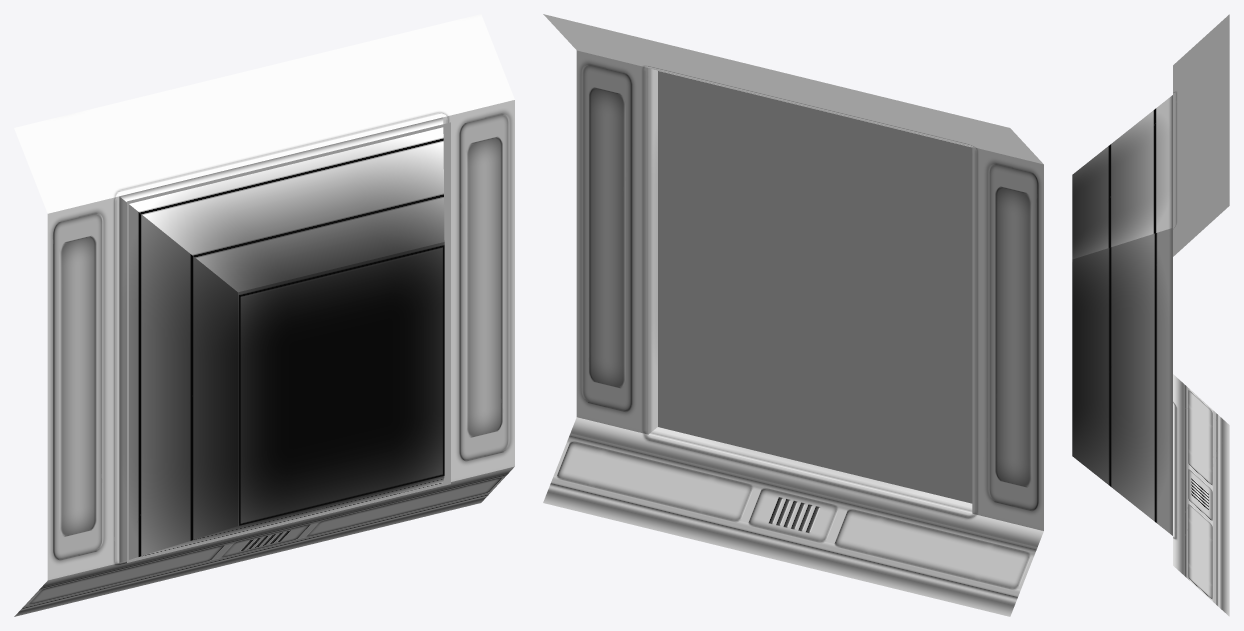
File: Sect_Wall_6_GrateA.FBX
3 renders of one model, left to right at view 1: azimuth 30°, elevation 25°; view 2: azimuth 150°, elevation 25°; view 3: azimuth 270°, elevation 25°, orthographic. The views are drawn at different scales.
Parts seen in each view (by area): view 1: Sect_Wall_C_002, Grate007; view 2: Sect_Wall_C_002, Grate007; view 3: Sect_Wall_C_002.
Boxes of the visible parts, x1,y1,x2,y2 form: Sect_Wall_C_002: (14,14,514,616); Grate007: (127,122,450,562); Sect_Wall_C_002: (543,14,1043,616); Grate007: (658,71,972,503); Sect_Wall_C_002: (1072,14,1229,616).
Size of the model in its own units: 4 by 4 by 1.39.
